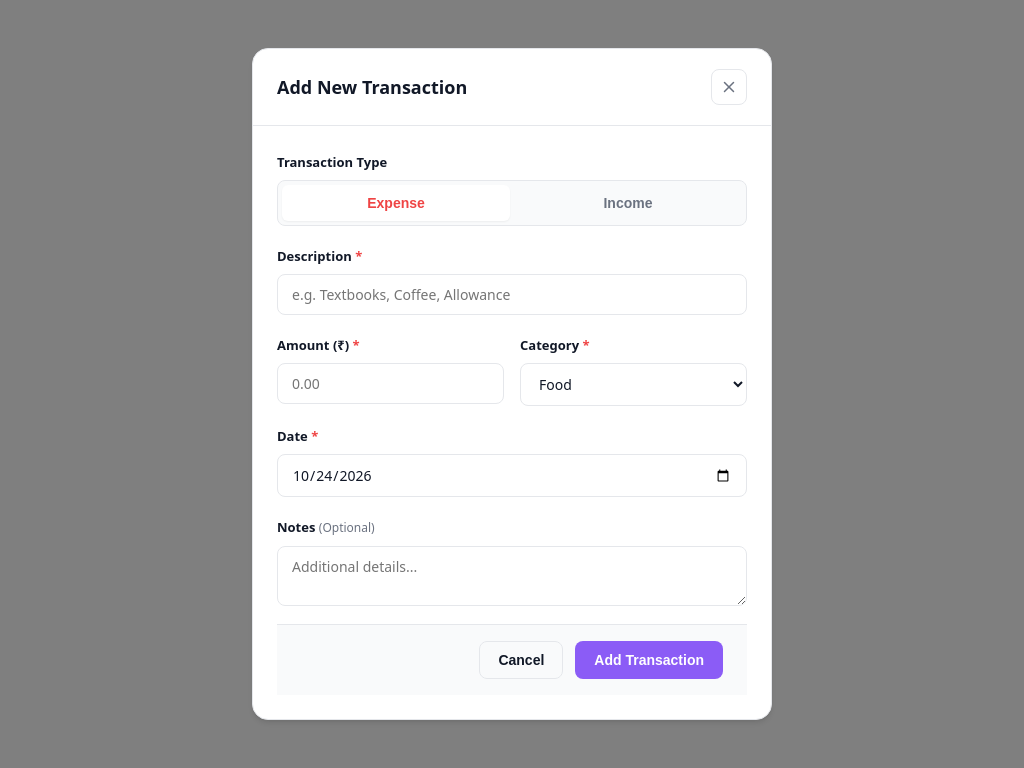
Test: Lumina Finance Frontend Security & QA Suite › 32. Transaction Form Behavior › validates description and positive amount on submit
What coordinates should you click on to do the following:
click the button "Add Transaction"
I would click on:
 (649, 660)
Its box is x1=575 y1=641 x2=723 y2=679.
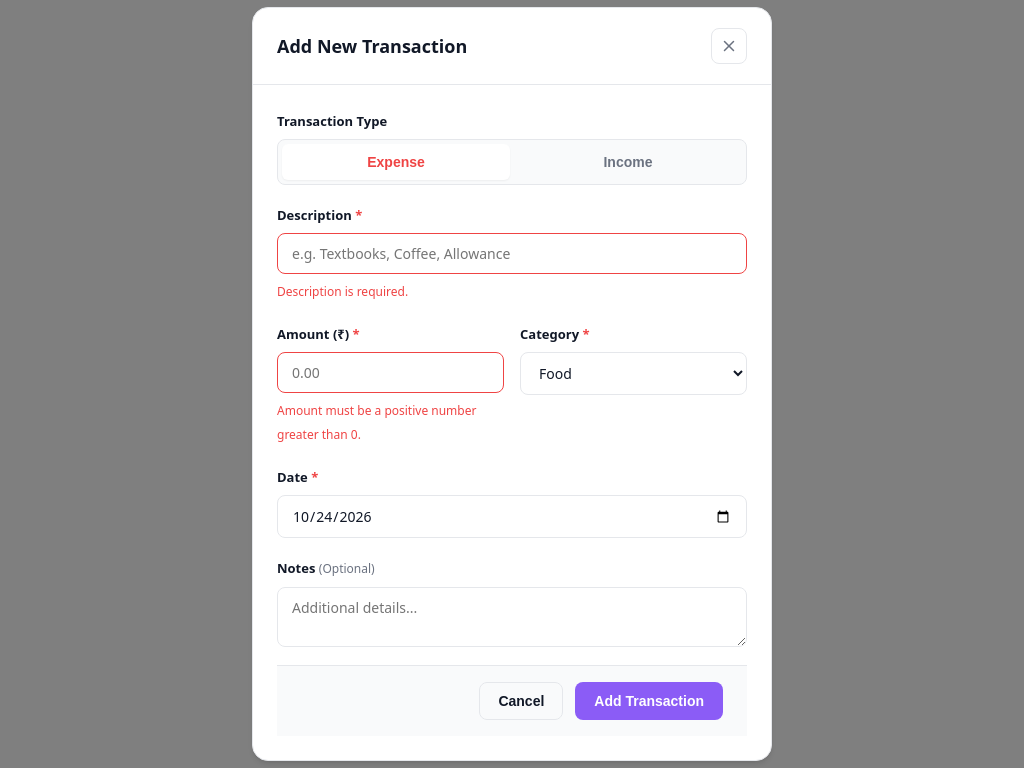
Expected: the text "Description is required." is shown, x1=277 y1=283 x2=408 y2=300
Expected: the text "Amount must be a positive number greater than 0." is shown, x1=277 y1=399 x2=504 y2=447
